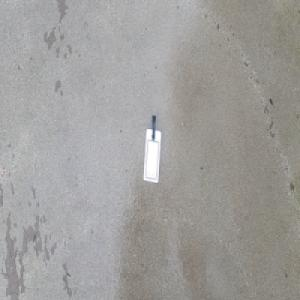LuggageTag: (142, 114, 162, 185)
